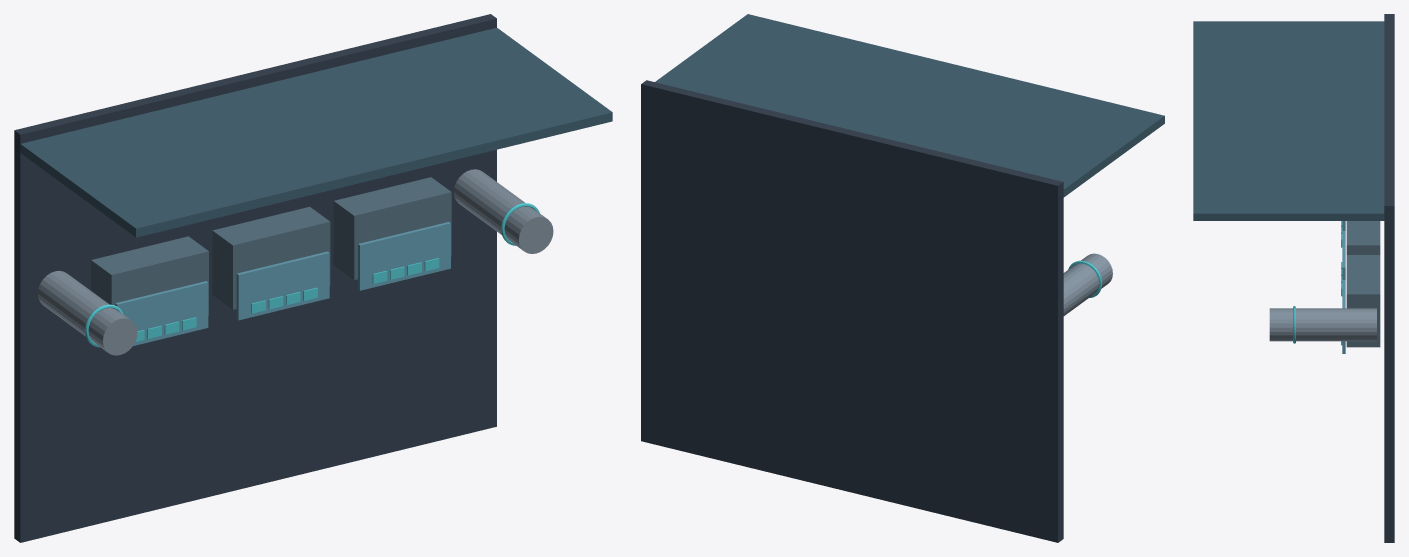
The model's file is 02_Orbital_Command_Deck.glb.
3 views of the same model, side by side, from view 1: azimuth 30°, elevation 25°; view 2: azimuth 150°, elevation 25°; view 3: azimuth 270°, elevation 25° (orthographic). The views are drawn at different scales.
Parts seen in each view (by area): view 1: Control_Floor, Main_Backdrop, Consoles_1, Consoles_2, Consoles_0, DataTower_1, DataTower_0, InputDeck_1, InputDeck_2, InputDeck_0; view 2: Control_Floor, Main_Backdrop, DataTower_0; view 3: Main_Backdrop, Control_Floor, DataTower_1, Consoles_2, Consoles_1.
Boxes of the visible parts, x1,y1,x2,y2 form: Control_Floor: [14, 14, 496, 542]; Main_Backdrop: [19, 27, 612, 237]; Consoles_1: [212, 206, 330, 309]; Consoles_2: [333, 177, 451, 280]; Consoles_0: [91, 236, 208, 315]; DataTower_1: [454, 169, 553, 253]; DataTower_0: [38, 270, 137, 355]; InputDeck_1: [236, 251, 329, 320]; InputDeck_2: [358, 222, 450, 290]; InputDeck_0: [115, 281, 208, 345]; Control_Floor: [641, 80, 1063, 542]; Main_Backdrop: [655, 14, 1164, 197]; DataTower_0: [1063, 253, 1112, 315]; Main_Backdrop: [1193, 21, 1385, 220]; Control_Floor: [1384, 14, 1394, 542]; DataTower_1: [1269, 308, 1376, 341]; Consoles_2: [1346, 255, 1380, 347]; Consoles_1: [1346, 221, 1380, 254].
Bounding box in the file's own units: 11 × 9 × 4.87.
